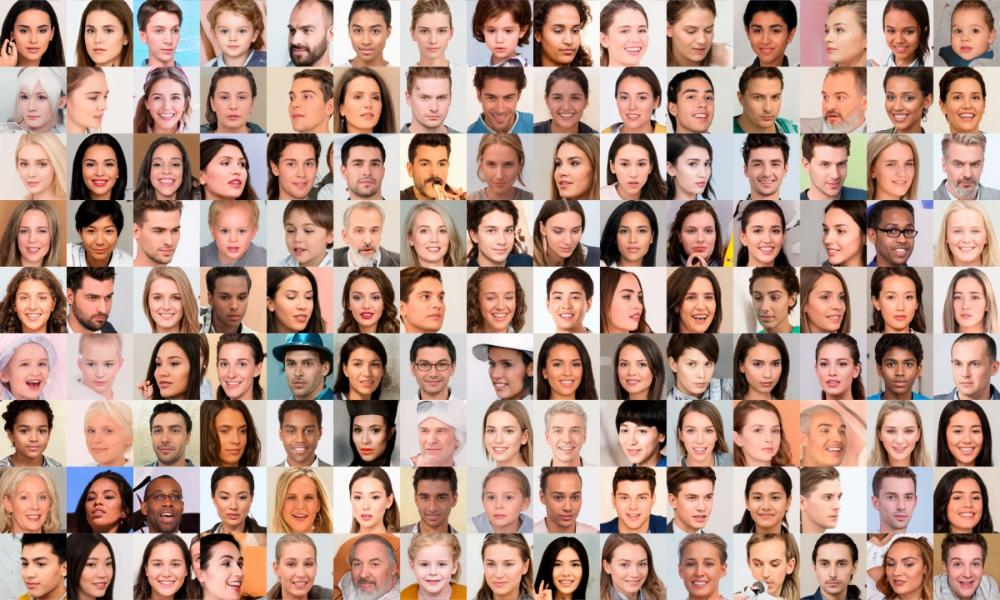hairnetless: (593, 259, 662, 350), (337, 533, 424, 600), (537, 58, 602, 146), (197, 261, 279, 327), (3, 0, 80, 70), (261, 267, 342, 332), (481, 535, 562, 600), (468, 400, 542, 469), (475, 51, 531, 131), (13, 273, 87, 331), (205, 71, 263, 144), (737, 543, 808, 599), (925, 473, 1000, 526), (337, 77, 404, 136), (544, 399, 600, 468), (475, 265, 536, 328), (673, 199, 736, 259), (337, 269, 396, 331), (385, 283, 459, 332), (595, 539, 656, 597), (945, 539, 1000, 600), (753, 0, 815, 54), (831, 529, 878, 600), (272, 402, 323, 463), (405, 59, 460, 115), (77, 477, 134, 530), (677, 523, 716, 600), (625, 47, 662, 127), (289, 65, 327, 139), (199, 459, 244, 519), (1, 465, 58, 512), (73, 263, 116, 322), (677, 69, 724, 122), (129, 267, 182, 314), (889, 0, 930, 59), (829, 1, 864, 67), (0, 409, 50, 451), (93, 0, 124, 66), (151, 477, 195, 523), (13, 547, 60, 587), (893, 525, 914, 600)
maskless: (403, 92, 455, 147), (413, 364, 470, 412), (203, 228, 276, 261), (149, 372, 213, 409), (413, 562, 465, 600), (480, 222, 528, 263), (286, 501, 332, 543), (888, 92, 927, 139), (810, 99, 856, 137), (406, 170, 453, 207), (345, 235, 399, 266), (149, 436, 195, 472), (278, 33, 325, 68), (472, 299, 528, 328), (606, 565, 652, 600), (552, 98, 587, 144), (210, 166, 258, 199), (409, 233, 466, 260), (484, 364, 529, 397), (675, 491, 716, 527), (877, 166, 912, 208), (886, 157, 919, 201), (673, 307, 733, 331), (282, 238, 335, 265), (491, 101, 533, 135), (220, 570, 267, 600), (219, 94, 257, 131), (422, 498, 461, 534), (347, 164, 387, 199), (678, 94, 713, 134), (749, 501, 791, 534), (613, 366, 659, 396), (890, 362, 928, 398), (136, 565, 175, 600), (749, 374, 790, 407), (545, 225, 586, 258), (278, 302, 323, 332), (681, 32, 726, 62), (284, 164, 322, 199), (814, 436, 858, 466), (147, 303, 195, 330), (618, 500, 652, 538), (821, 565, 862, 596), (476, 168, 531, 191), (884, 29, 924, 60), (816, 368, 860, 396), (814, 432, 849, 467), (814, 99, 851, 131), (808, 239, 853, 265), (226, 365, 261, 398), (484, 567, 524, 595), (223, 298, 256, 331), (888, 32, 921, 65), (822, 155, 854, 189), (622, 96, 652, 132), (486, 436, 523, 465), (812, 311, 863, 332), (151, 168, 189, 196), (147, 232, 182, 262), (425, 438, 457, 470), (753, 34, 785, 66), (350, 565, 385, 594), (548, 503, 588, 528), (550, 35, 585, 63), (550, 368, 586, 395), (805, 506, 847, 529), (548, 305, 585, 331), (285, 562, 316, 593), (561, 567, 592, 597), (751, 106, 795, 127), (686, 370, 721, 396), (893, 570, 924, 599), (890, 372, 929, 395), (349, 299, 388, 320), (414, 40, 457, 59), (888, 431, 914, 462), (220, 499, 252, 524), (349, 440, 396, 457), (885, 239, 923, 260), (287, 372, 323, 394), (683, 571, 724, 590), (346, 506, 383, 527), (146, 110, 194, 126), (347, 371, 387, 390), (820, 42, 853, 65), (750, 168, 781, 192), (478, 505, 517, 524), (618, 439, 657, 458), (751, 434, 787, 454), (887, 505, 918, 528), (154, 497, 181, 523), (147, 42, 182, 62), (552, 166, 574, 197), (484, 38, 517, 58), (686, 439, 714, 461), (222, 41, 256, 59), (619, 313, 648, 334), (554, 433, 579, 457), (419, 305, 448, 325), (821, 375, 856, 391), (882, 313, 921, 327), (355, 45, 383, 60), (614, 570, 640, 584)
